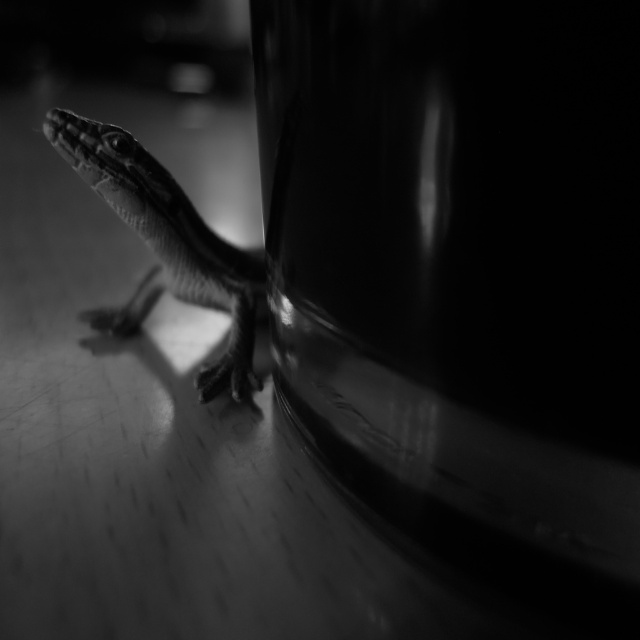Lizard: (42, 104, 266, 412)
